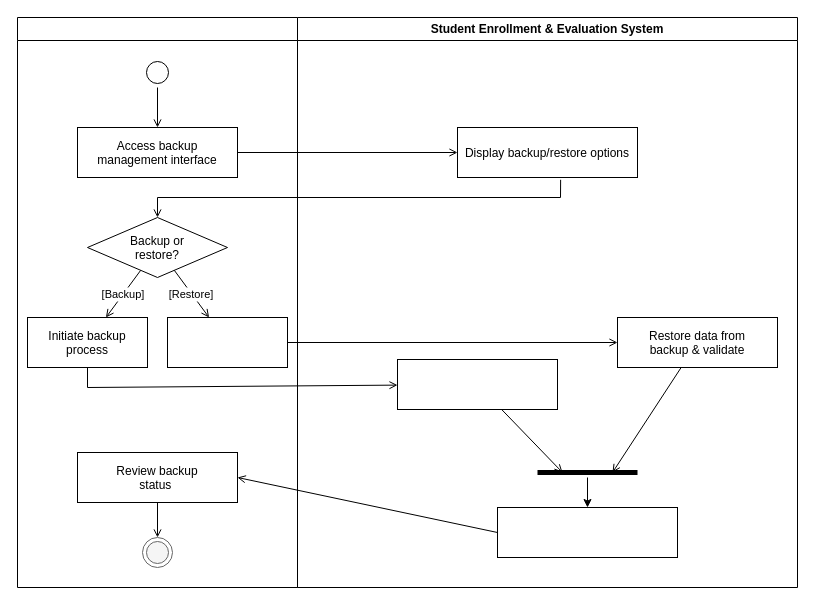
The diagram is 815 pixels wide and 605 high, and some of its shapes have lost their labels. The shapes that lost their labels are listed below. From the top down, each one's box as (x1, y1, x2, y2) in pixels, then its label:
(16, 16, 298, 588): System Administrator
(166, 316, 288, 368): Initiate restore process
(396, 358, 558, 410): Create data backup & verify integrity
(496, 506, 678, 558): Generate backup report & logs
